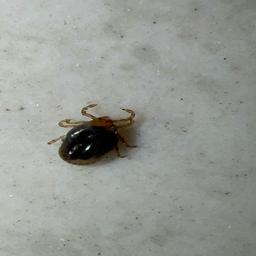Rhipicephalus sanguineus: (46, 103, 138, 165)
